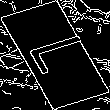L_NE: (15, 31, 95, 79)
